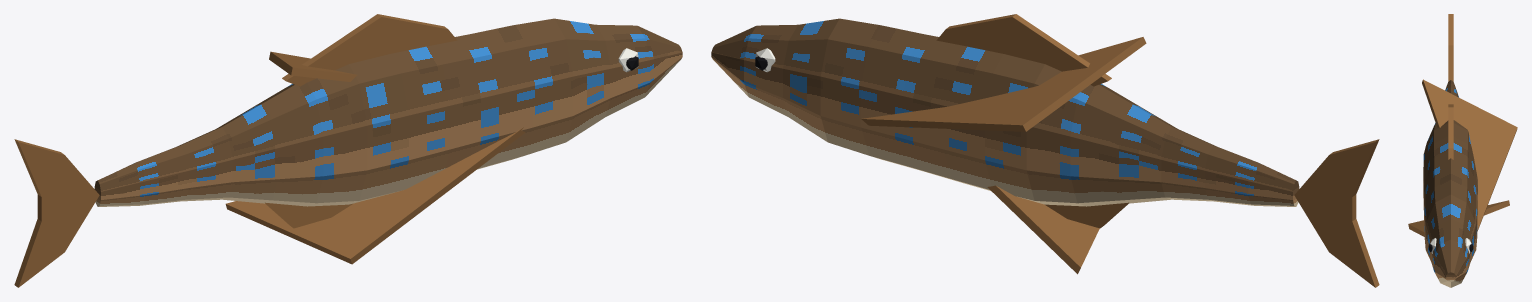
The model's file is flying_gurnard.glb.
The picture shows the model from 3 angles, left to right: view 1: azimuth 30°, elevation 25°; view 2: azimuth 150°, elevation 25°; view 3: azimuth 270°, elevation 25°; orthographic projection. The views are drawn at different scales.
Parts seen in each view (by area): view 1: fish_flying_gurnard; view 2: fish_flying_gurnard; view 3: fish_flying_gurnard.
Boxes of the visible parts, x1,y1,x2,y2 form: fish_flying_gurnard: (14, 14, 682, 287); fish_flying_gurnard: (711, 14, 1379, 287); fish_flying_gurnard: (1408, 14, 1517, 287).
Size of the model in its own units: 1.14 by 0.3484 by 0.2459.
4 materials, 1 textured.
